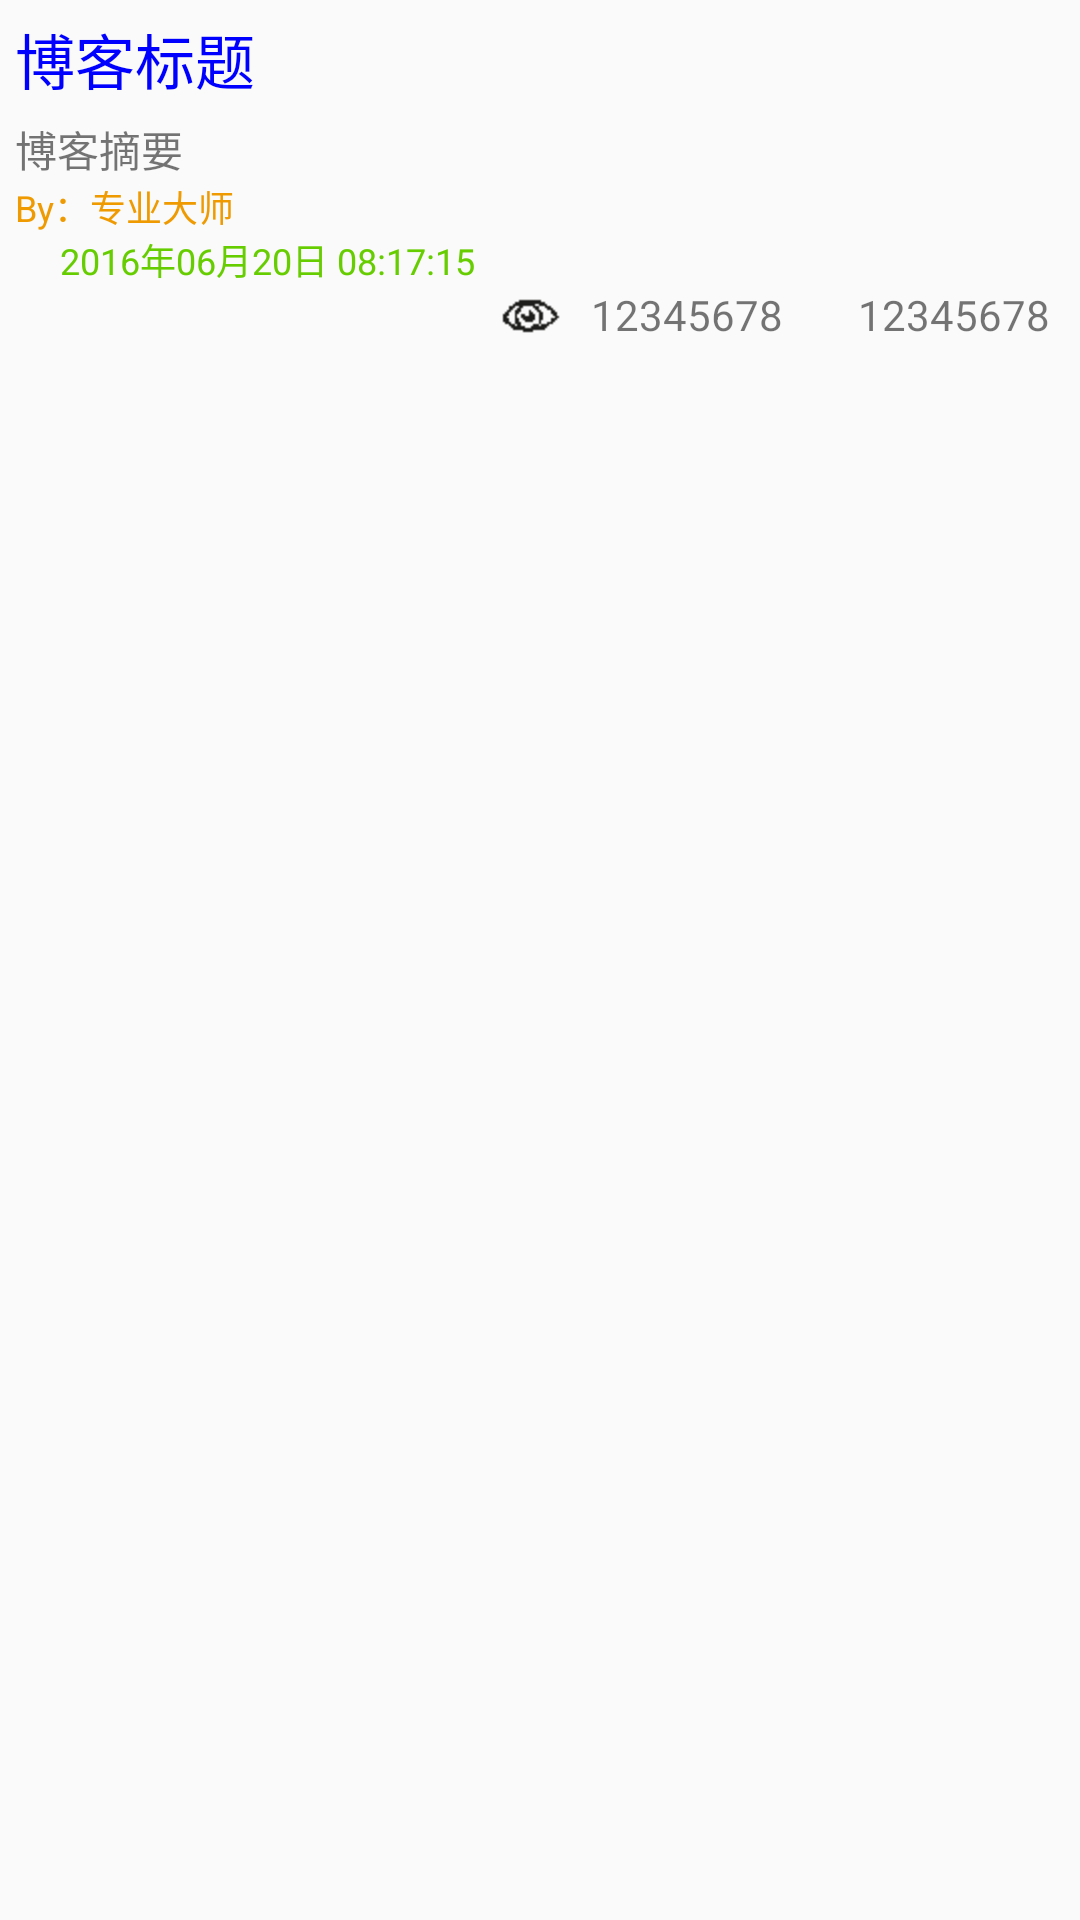

Screen size 1080w x 1920h. Icon name, then its box in pixels as box(x1, y1, x2, y2):
looked: box(502, 299, 560, 333)
